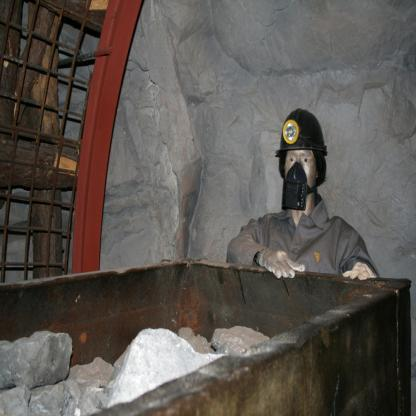Helmet: (273, 110, 334, 212)
